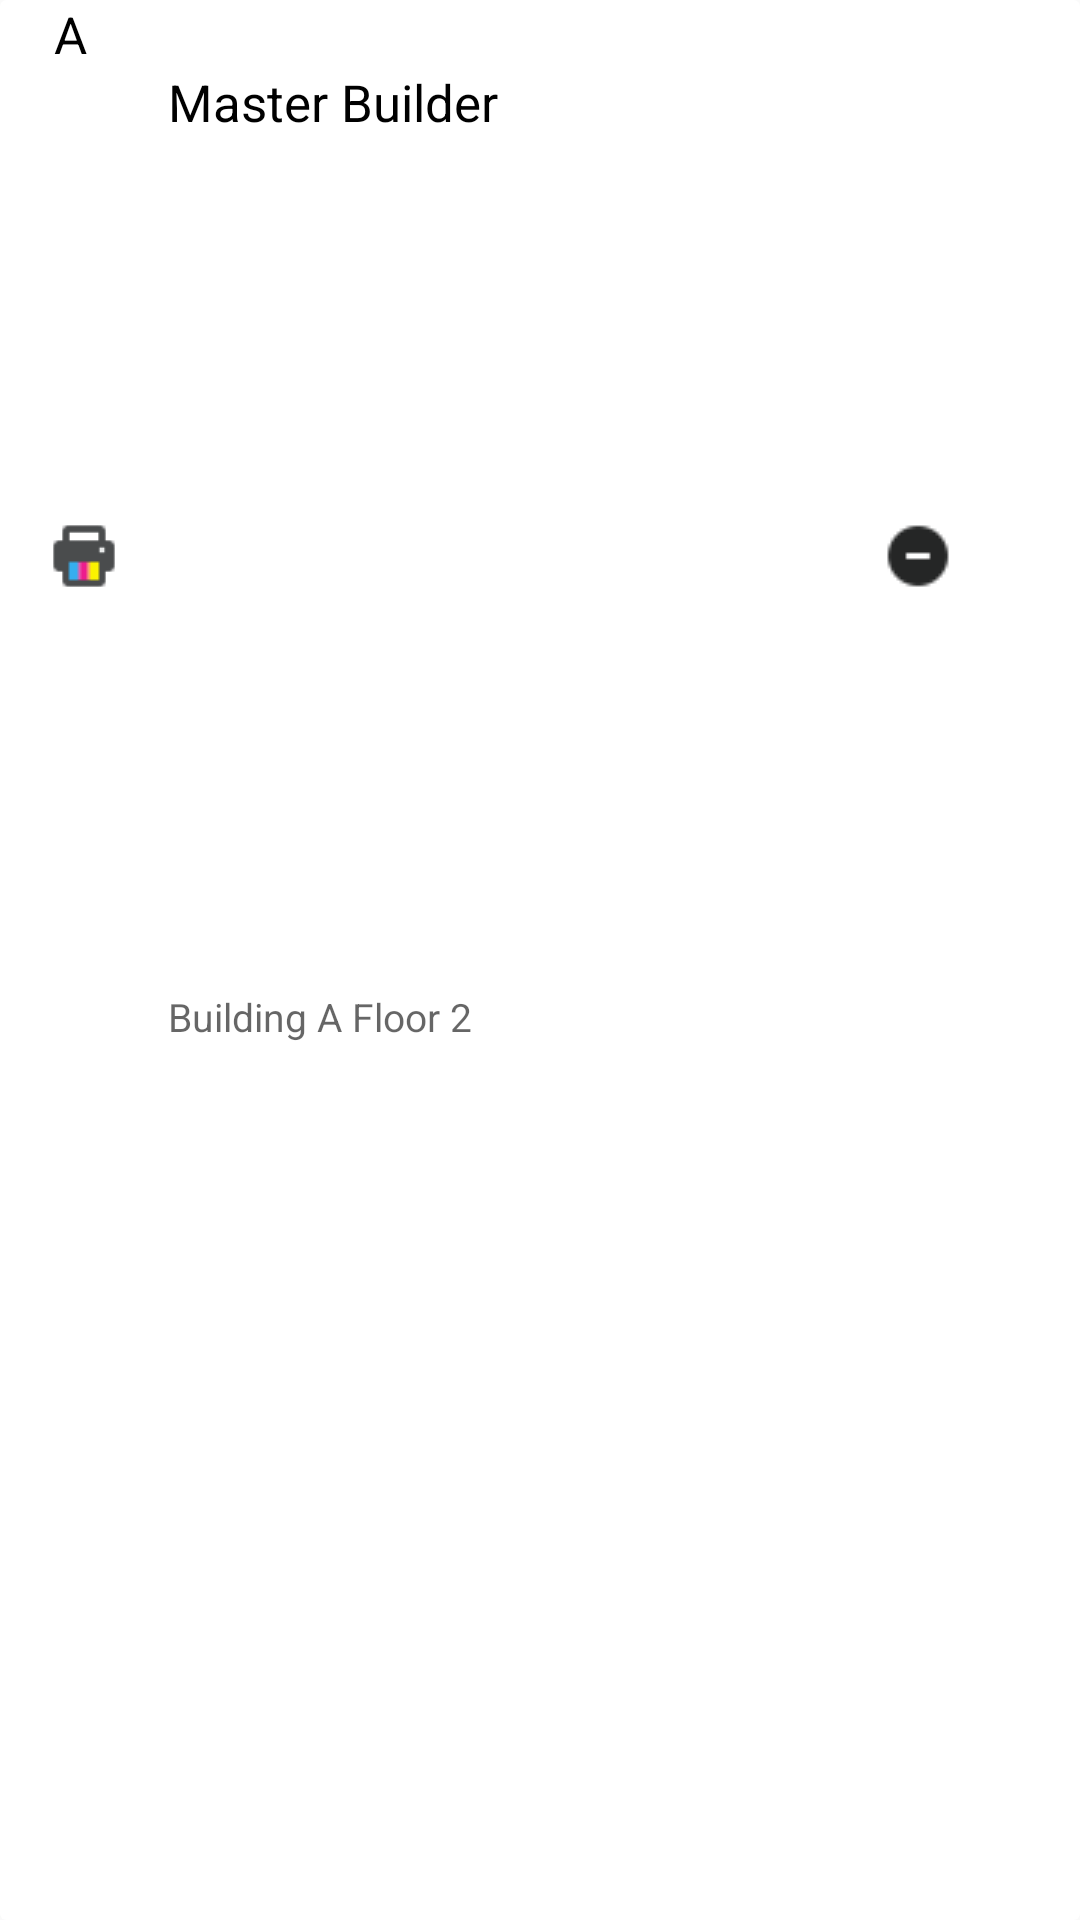

Point at icon controls on the screen. Image size 1080×1920, points as [x,y].
removeprinter: [918,556]
